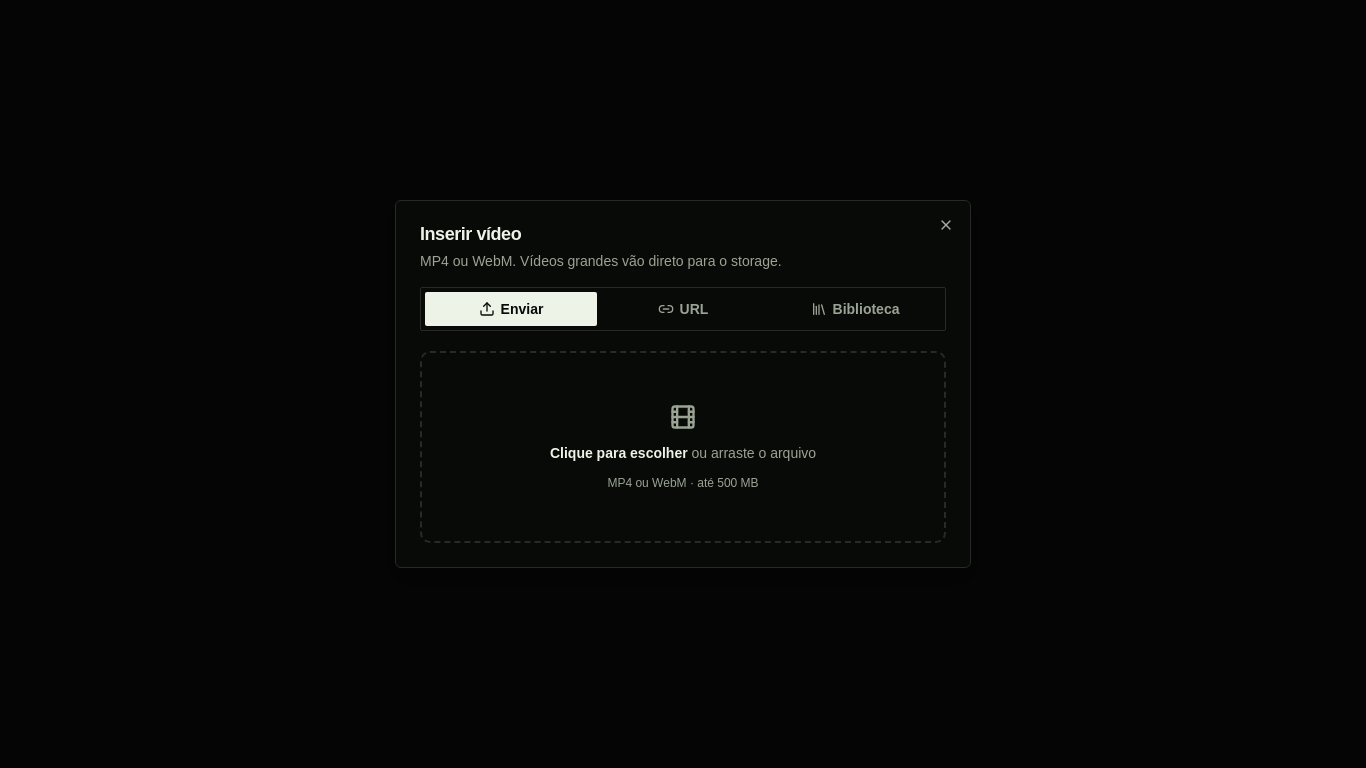
Scenario: <MediaDialog /> — biblioteca › mostra o erro quando a biblioteca não carrega
Press the mouse on the tab "Biblioteca": {"x": 855, "y": 309} x1=769 y1=292 x2=941 y2=326
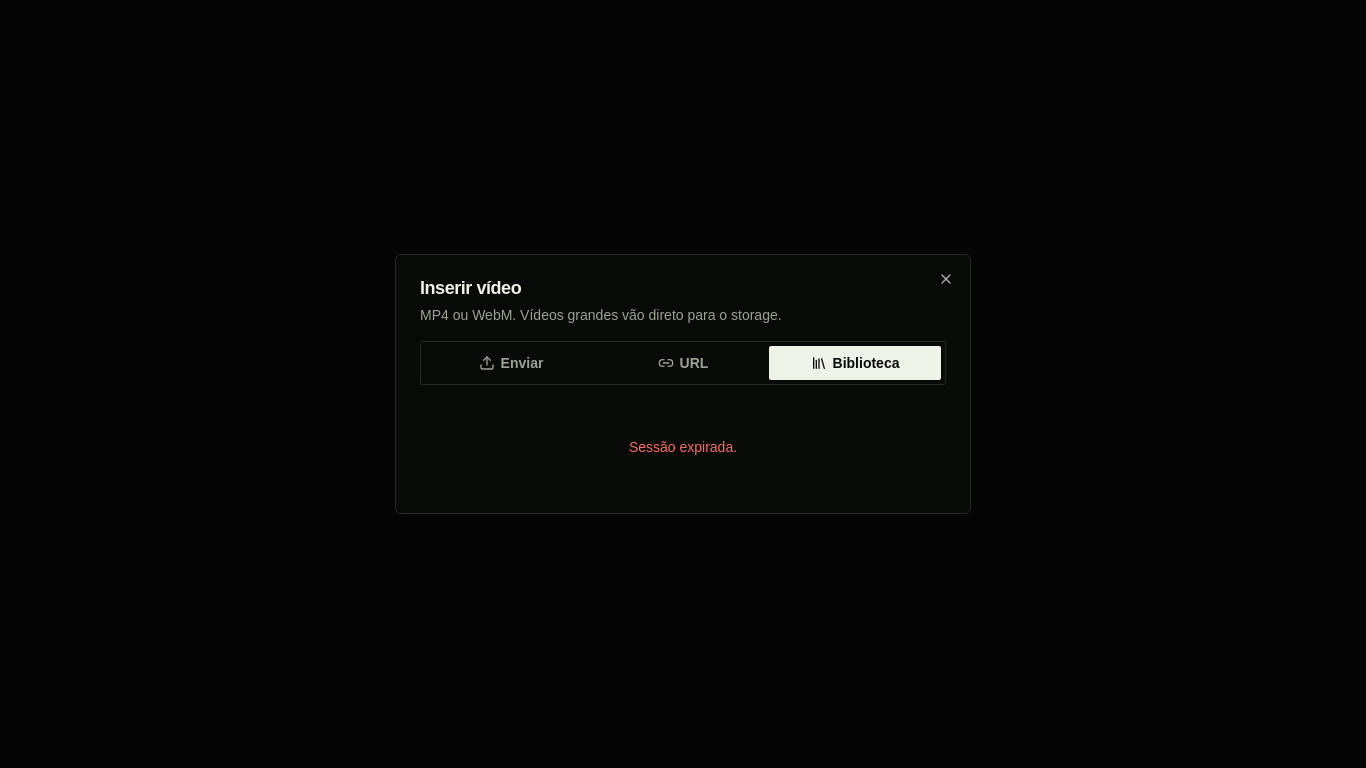
Result: the text "Sessão expirada." is shown at x1=629 y1=439 x2=737 y2=455
